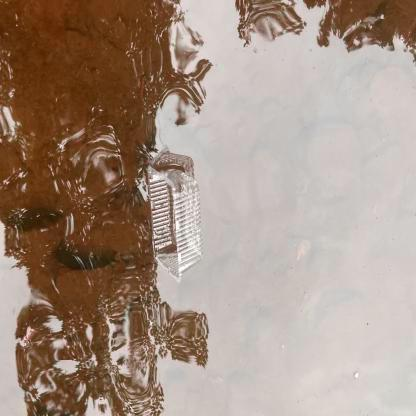Plastic: (144, 157, 204, 286)
